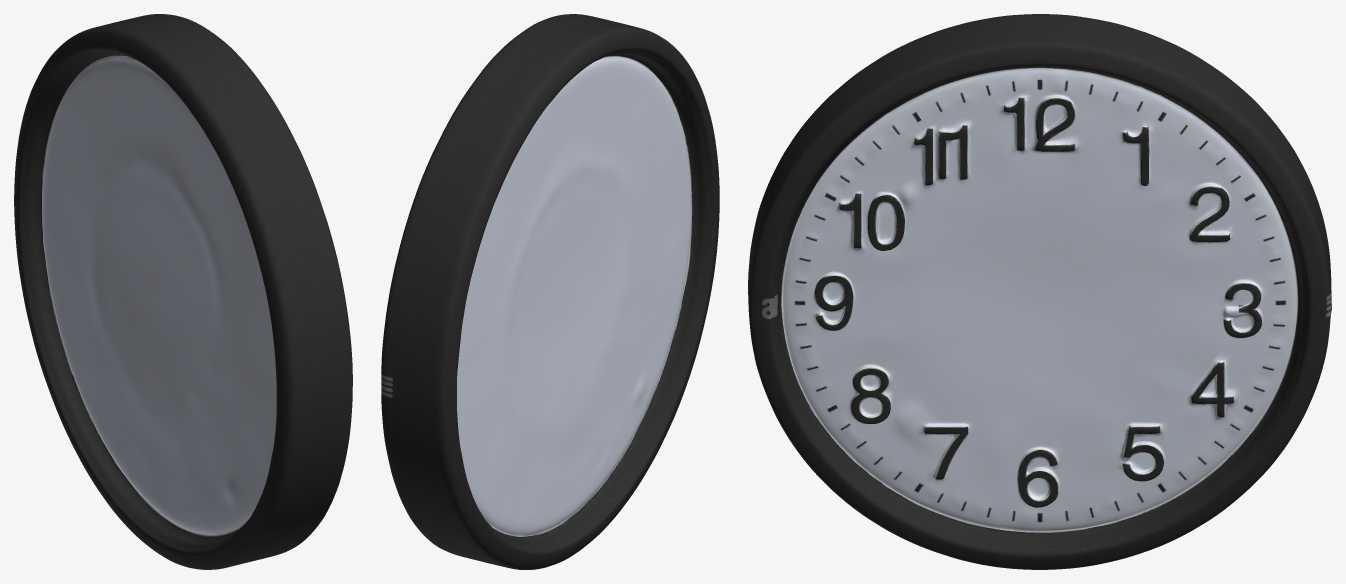
File: tripo_convert_ea17a7f7-f075-4d7e-960b-d8e1d43e6a45.fbx
3 views of the same model, side by side, from view 1: azimuth 30°, elevation 25°; view 2: azimuth 150°, elevation 25°; view 3: azimuth 270°, elevation 25° (orthographic). The views are drawn at different scales.
Parts seen in each view (by area): view 1: tripo_node_ea17a7f7; view 2: tripo_node_ea17a7f7; view 3: tripo_node_ea17a7f7.
Part boxes in pixels (box(x1,y1,x2,y2)): tripo_node_ea17a7f7: box(14, 14, 352, 569); tripo_node_ea17a7f7: box(381, 14, 719, 569); tripo_node_ea17a7f7: box(748, 14, 1331, 569).
Size of the model in its own units: 0.1499 by 0.9959 by 0.9985.
1 material, 1 textured.
